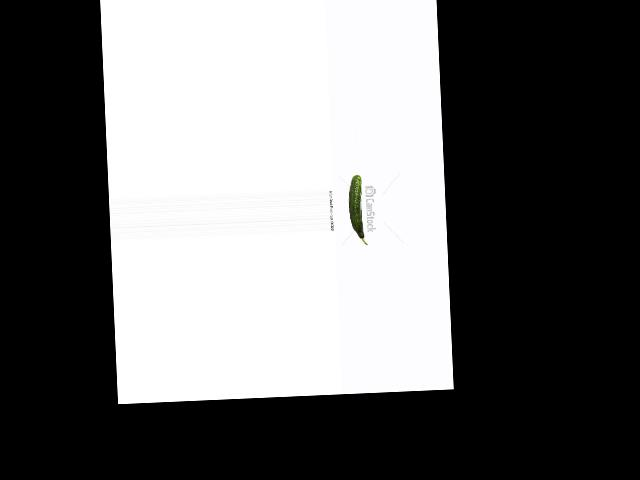cucumber: (347, 175, 367, 246)
